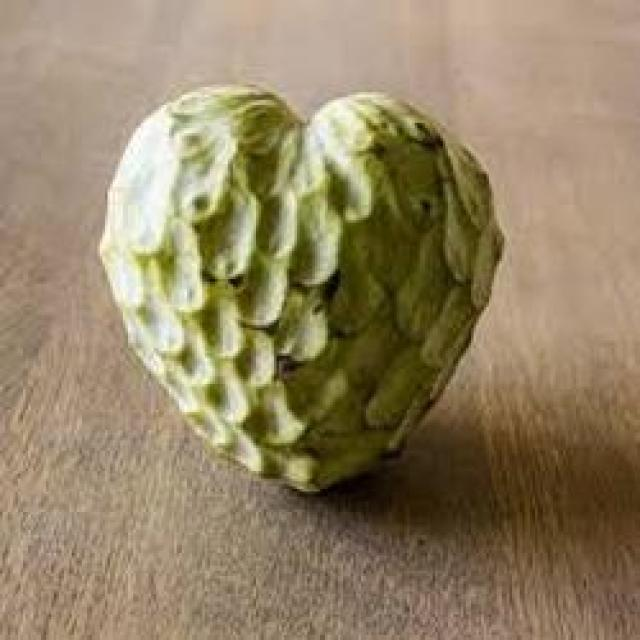apple: (100, 74, 507, 504)
